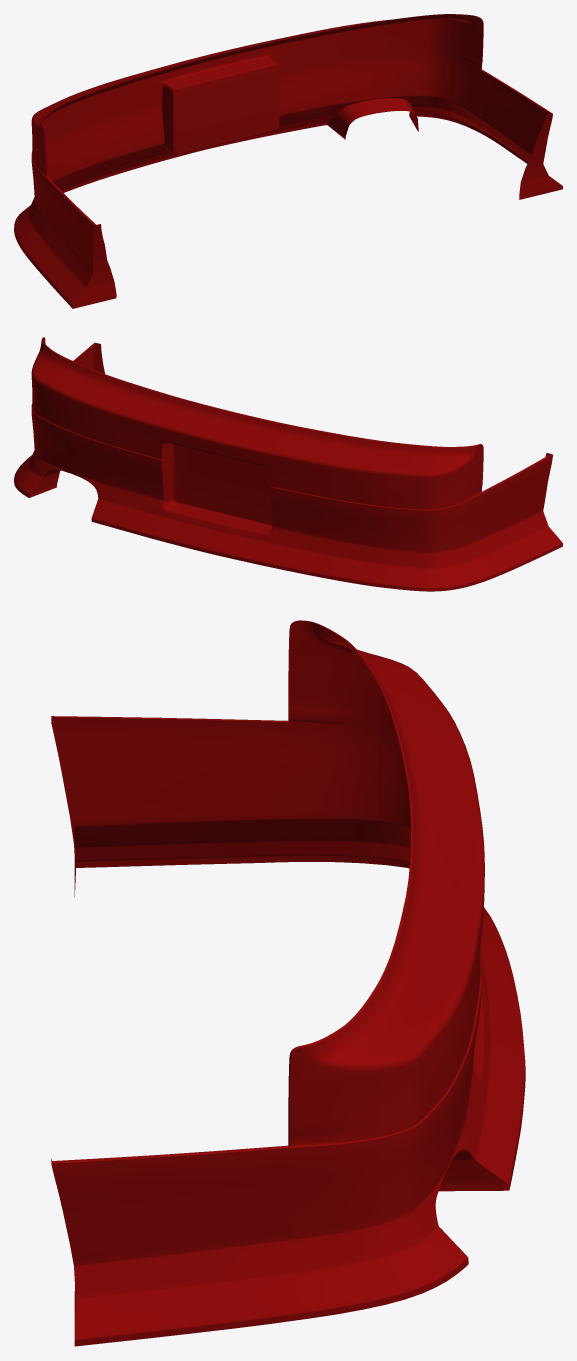
Rendered from rearbumper_dmax.glb.
3 views of the same model, one above another, from view 1: azimuth 30°, elevation 25°; view 2: azimuth 150°, elevation 25°; view 3: azimuth 270°, elevation 25° (orthographic). The views are drawn at different scales.
Parts seen in each view (by area): view 1: Bumper; view 2: Bumper; view 3: Bumper.
Part boxes in pixels (left/top/right/bottom): Bumper: left=14, top=14, right=562, bottom=308; Bumper: left=14, top=337, right=562, bottom=591; Bumper: left=51, top=620, right=525, bottom=1346.
Bounding box in the file's own units: 1.79 × 0.4802 × 0.7515.
